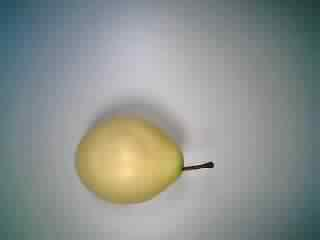pear: (63, 104, 219, 210)
